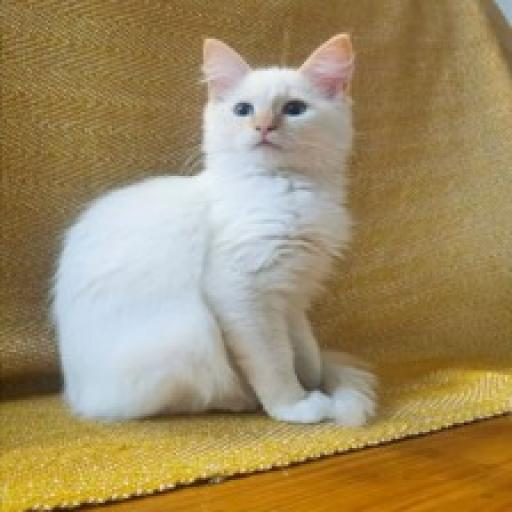cat: (45, 31, 384, 445)
